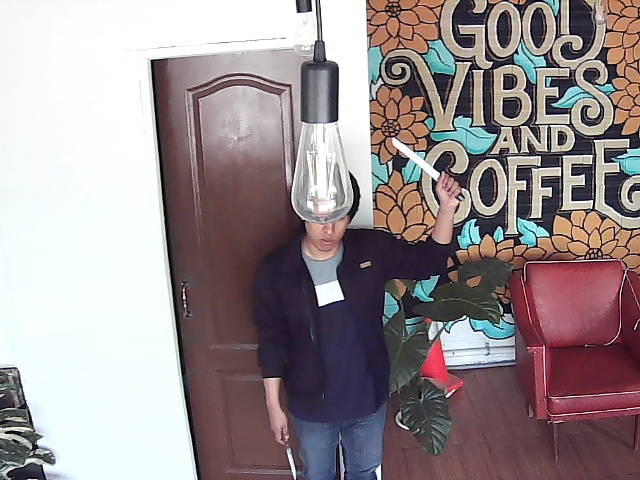cuchillo: (390, 133, 474, 207)
